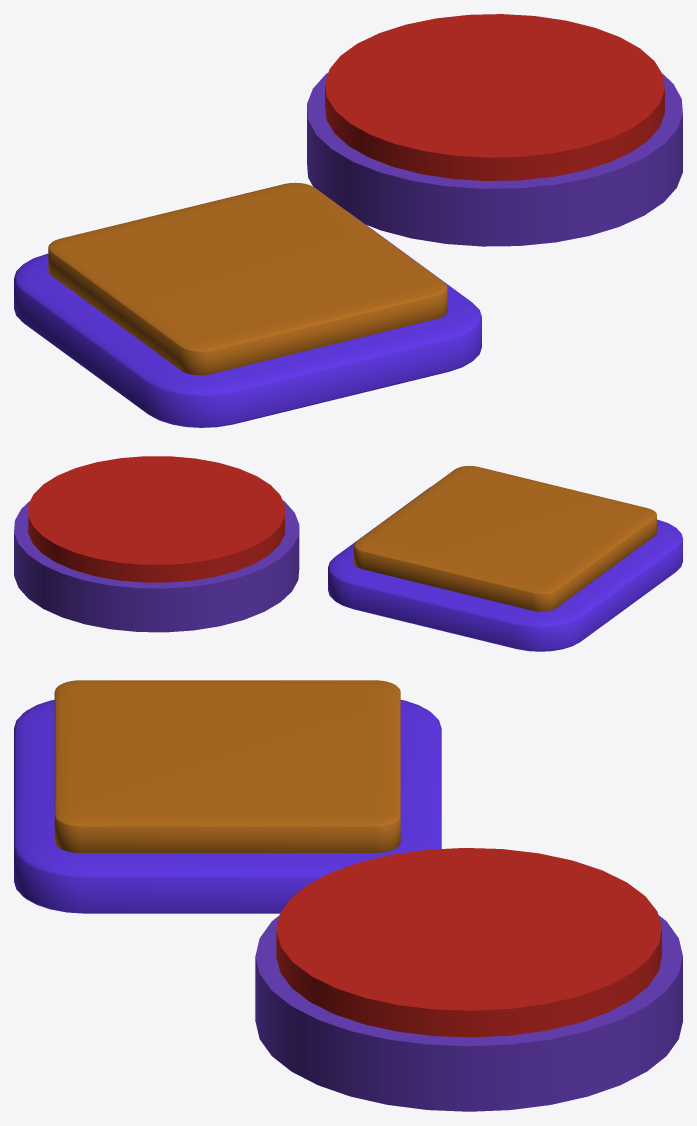
The model's file is buttons.fbx.
3 renders of one model, top to bottom at view 1: azimuth 30°, elevation 25°; view 2: azimuth 150°, elevation 25°; view 3: azimuth 270°, elevation 25°, orthographic. The views are drawn at different scales.
Visible parts, largest first — view 1: button1, button2, floor1, floor2; view 2: button1, button2, floor1, floor2; view 3: button1, button2, floor2, floor1.
Part boxes in pixels (x1,y1,x2,y2): button1: (48, 182, 447, 375); button2: (325, 14, 664, 180); floor1: (14, 210, 481, 427); floor2: (307, 73, 682, 246); button1: (354, 466, 656, 611); button2: (28, 456, 284, 582); floor1: (328, 487, 682, 651); floor2: (14, 500, 299, 632); button1: (54, 680, 400, 852); button2: (276, 848, 661, 1037); floor2: (255, 915, 682, 1111); floor1: (14, 700, 441, 913).
Size of the model in its own units: 417 by 50.21 by 313.
